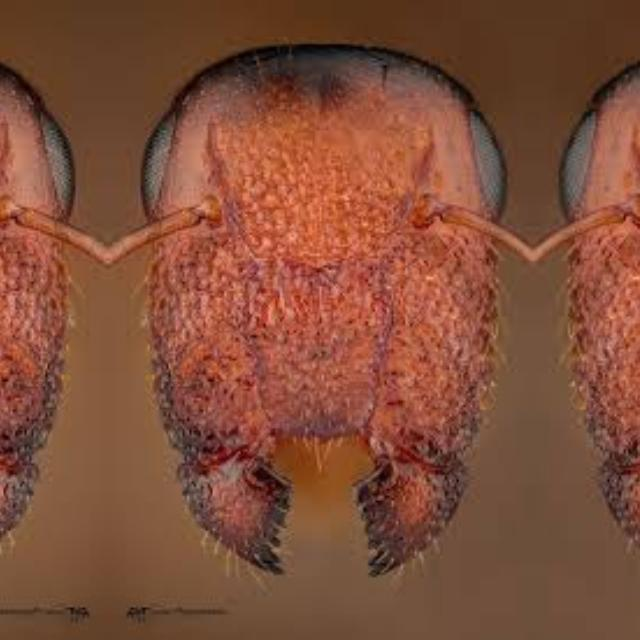Colobopsis: (106, 25, 532, 587), (532, 25, 640, 587), (0, 25, 106, 587)
